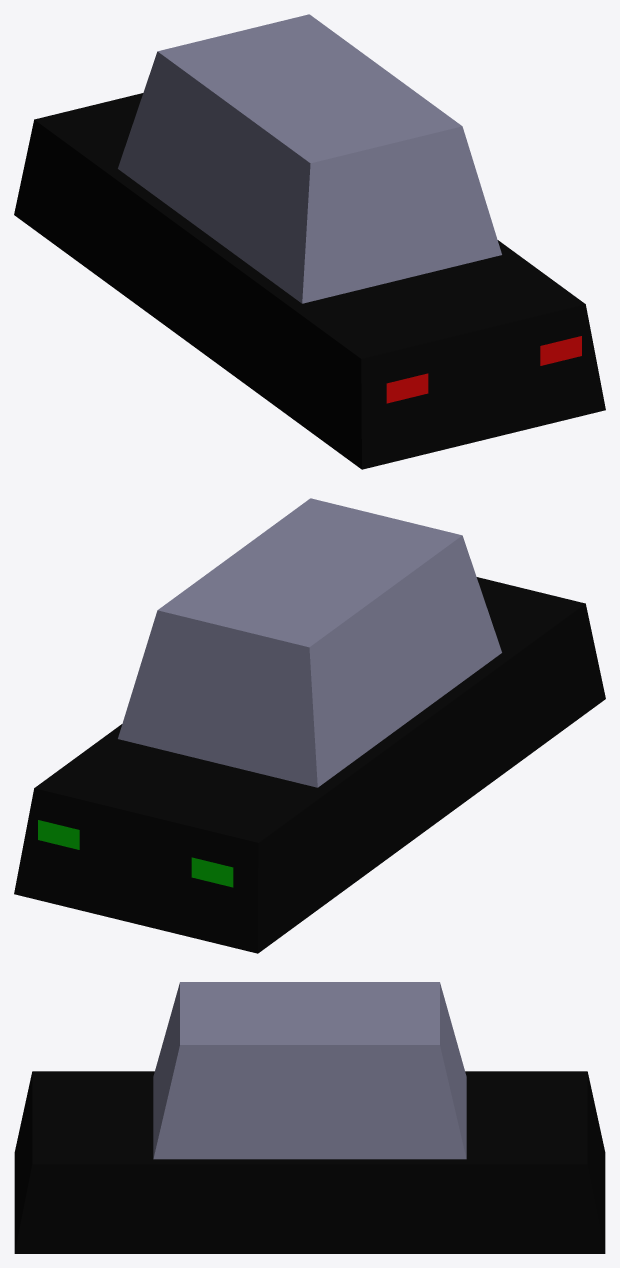
Rendered from veh_car_lod1.glb.
3 renders of one model, top to bottom at view 1: azimuth 30°, elevation 25°; view 2: azimuth 150°, elevation 25°; view 3: azimuth 270°, elevation 25°, orthographic. The views are drawn at different scales.
Visible parts, largest first — view 1: veh_car_lod1; view 2: veh_car_lod1; view 3: veh_car_lod1.
Part boxes in pixels (x1=…): veh_car_lod1: x1=14, y1=14, x2=605, y2=469; veh_car_lod1: x1=14, y1=498, x2=605, y2=953; veh_car_lod1: x1=14, y1=982, x2=605, y2=1253.
Size of the model in its own units: 1.7 by 1.49 by 4.21.
